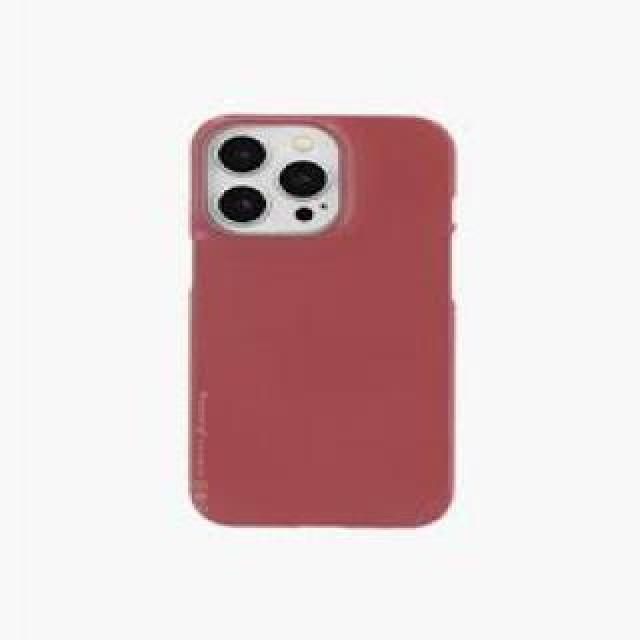smart phone: (142, 37, 478, 570)
